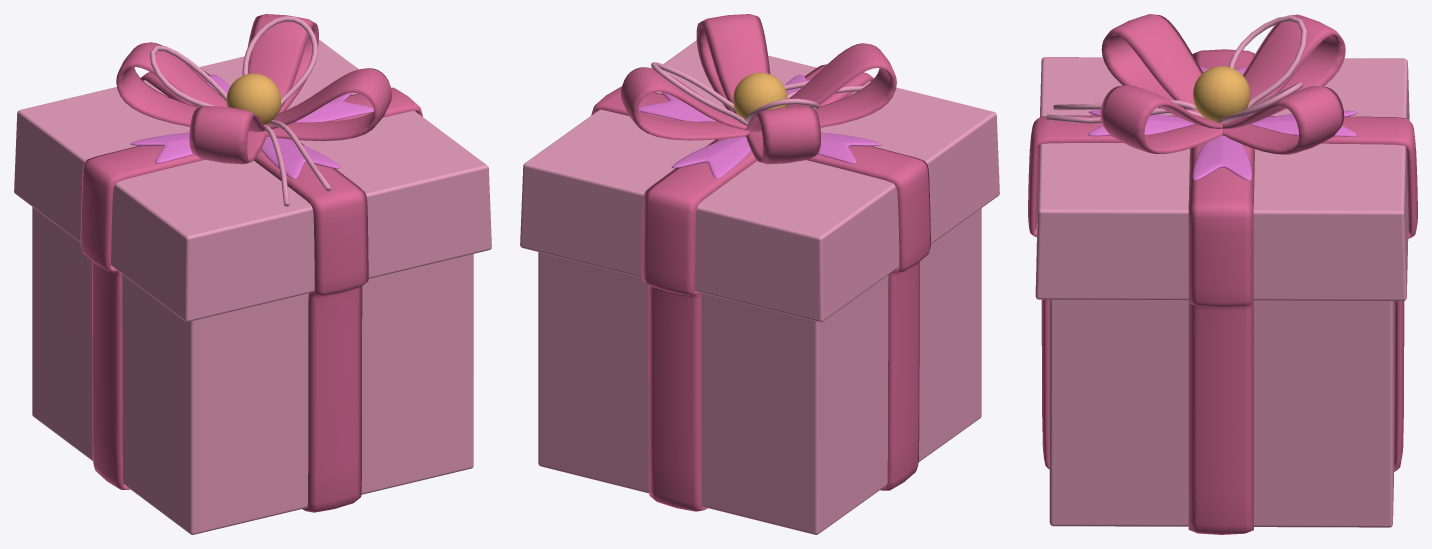
The model's file is gift_box.glb.
3 renders of one model, left to right at view 1: azimuth 30°, elevation 25°; view 2: azimuth 150°, elevation 25°; view 3: azimuth 270°, elevation 25°, orthographic. The views are drawn at different scales.
Visible parts, largest first — view 1: Giftbox01_0, Giftbox02_1, Giftbox03_2, Giftbox04_3, Giftbox05_4, Giftbox06_5; view 2: Giftbox01_0, Giftbox02_1, Giftbox03_2, Giftbox04_3, Giftbox05_4, Giftbox06_5; view 3: Giftbox01_0, Giftbox02_1, Giftbox03_2, Giftbox04_3, Giftbox05_4, Giftbox06_5.
Boxes of the visible parts, x1,y1,x2,y2 form: Giftbox01_0: [14, 39, 491, 534]; Giftbox02_1: [80, 66, 422, 512]; Giftbox03_2: [116, 14, 391, 164]; Giftbox04_3: [130, 74, 373, 179]; Giftbox05_4: [149, 16, 330, 206]; Giftbox06_5: [226, 73, 280, 124]; Giftbox01_0: [520, 40, 999, 534]; Giftbox02_1: [591, 64, 930, 511]; Giftbox03_2: [620, 14, 896, 164]; Giftbox04_3: [638, 74, 881, 178]; Giftbox05_4: [651, 62, 866, 125]; Giftbox06_5: [733, 72, 787, 120]; Giftbox01_0: [1035, 57, 1409, 527]; Giftbox02_1: [1028, 49, 1417, 534]; Giftbox03_2: [1100, 14, 1345, 154]; Giftbox04_3: [1088, 66, 1357, 180]; Giftbox05_4: [1046, 15, 1306, 123]; Giftbox06_5: [1193, 66, 1250, 121].
Size of the model in its own units: 1.3 by 1.52 by 1.3.
